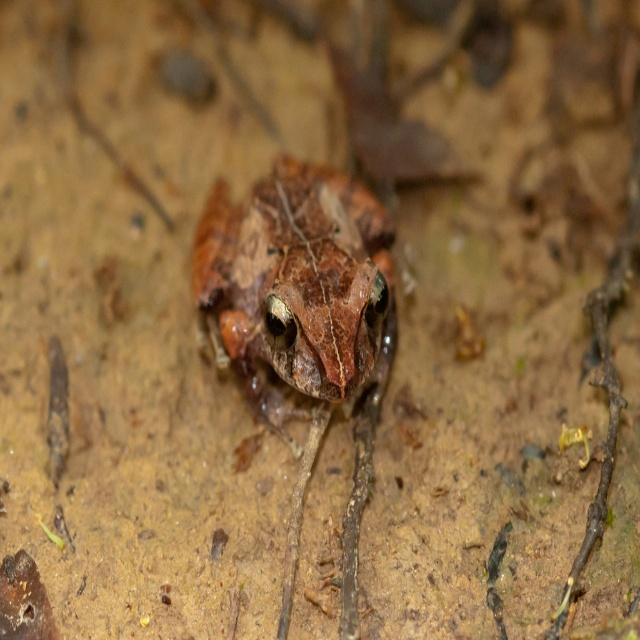Frog: (190, 154, 398, 431)
